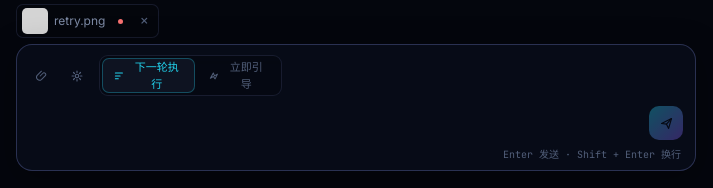
ChatComposer › shows icon-only independent states and retries a failed upload
Expected: the button named "发送消息" is disabled, [649,106,683,140]
What coordinates should you click on to do the following:
click the button named "上传失败，点击重试"
I would click on:
 (120, 21)
Its box is [111,12,129,30].
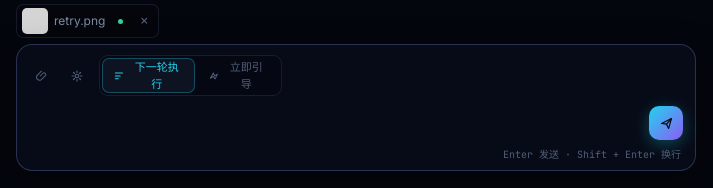
Result: the element named "上传完成" is shown at [118,18,123,24]
Result: the button named "发送消息" is enabled at [649,106,683,140]
